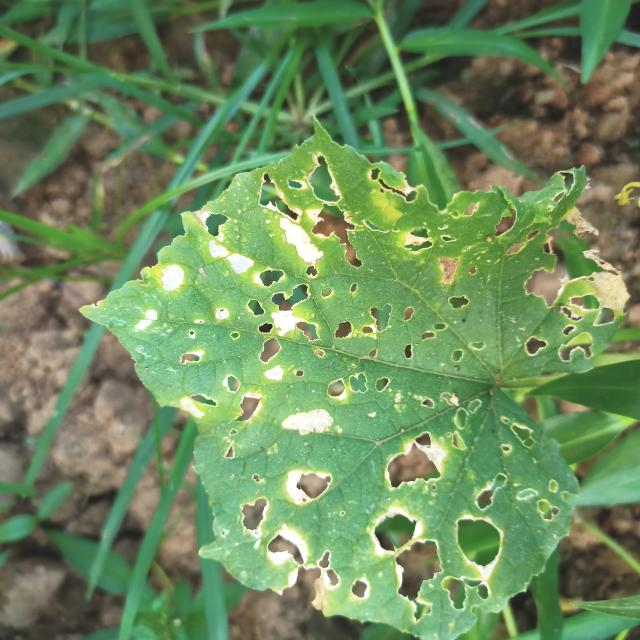disease_cucumber: (122, 162, 616, 609)
